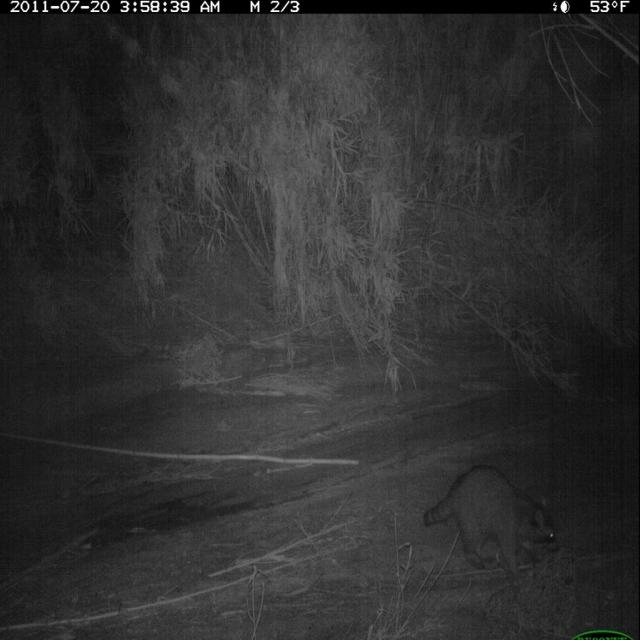raccoon: (421, 456, 567, 602)
